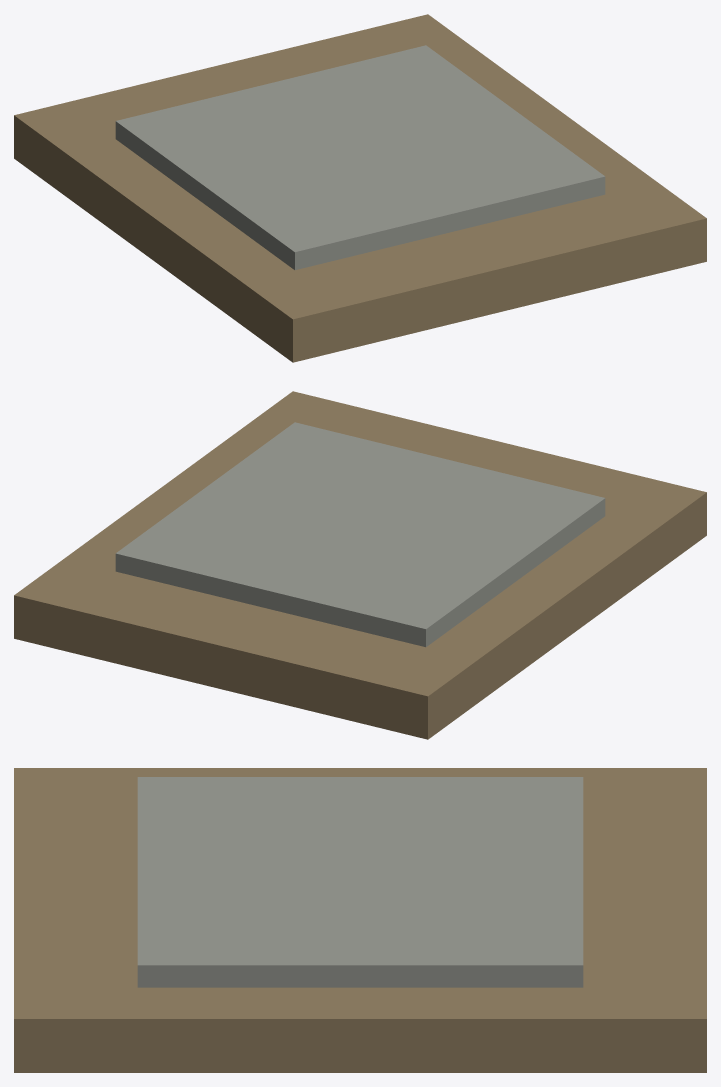
File: trail.fbx
3 renders of one model, top to bottom at view 1: azimuth 30°, elevation 25°; view 2: azimuth 150°, elevation 25°; view 3: azimuth 270°, elevation 25°, orthographic. The views are drawn at different scales.
Visible parts, largest first — view 1: a2000/400/trail; view 2: a2000/400/trail; view 3: a2000/400/trail.
Boxes of the visible parts, bbox=[...] form: a2000/400/trail: bbox=[14, 14, 706, 362]; a2000/400/trail: bbox=[14, 391, 706, 739]; a2000/400/trail: bbox=[14, 768, 706, 1072].
Bounding box in the file's own units: 0.6 × 0.085 × 0.7.
